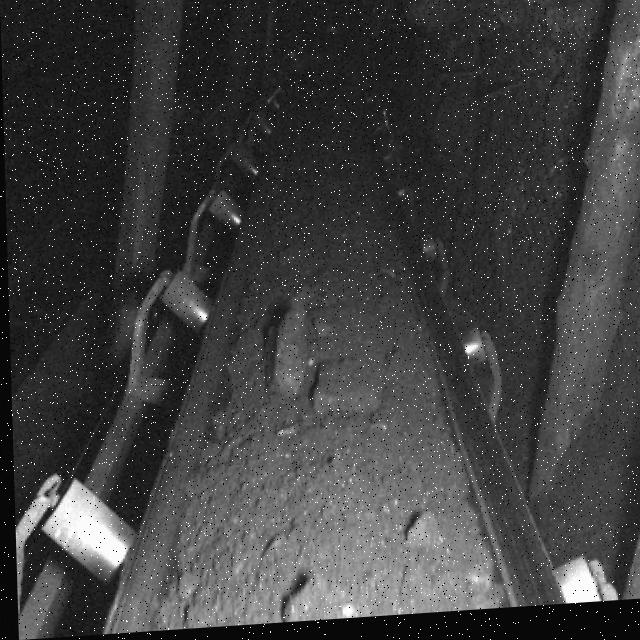large_sized_coal: (259, 298, 320, 400), (306, 354, 388, 425), (276, 581, 359, 626), (398, 517, 442, 566)
